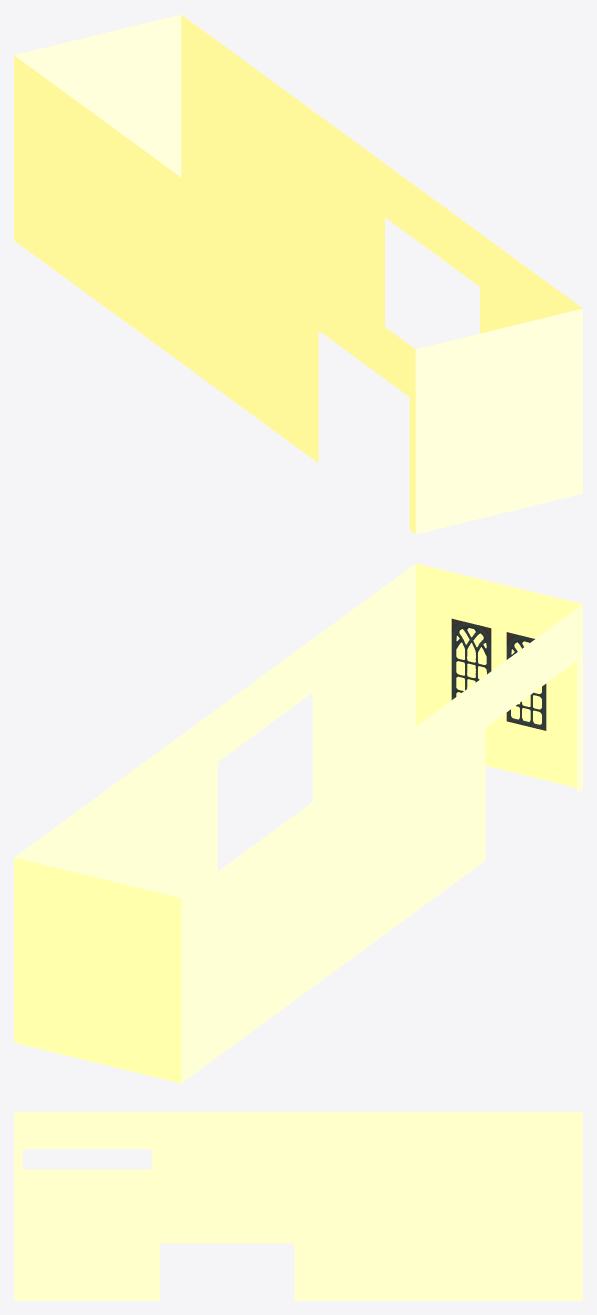
File: Homeworld_Interior_Md_Room_O_Filling_01_Vo.fbx
The picture shows the model from 3 angles, top to bottom: view 1: azimuth 30°, elevation 25°; view 2: azimuth 150°, elevation 25°; view 3: azimuth 270°, elevation 25°; orthographic projection. The views are drawn at different scales.
Parts seen in each view (by area): view 1: Homeworld_Interior_Md_Room_O_Filling_01_Vo; view 2: Homeworld_Interior_Md_Room_O_Filling_01_Vo; view 3: Homeworld_Interior_Md_Room_O_Filling_01_Vo.
Boxes of the visible parts, <box> form: Homeworld_Interior_Md_Room_O_Filling_01_Vo: <box>14,14,582,534</box>; Homeworld_Interior_Md_Room_O_Filling_01_Vo: <box>14,563,582,1083</box>; Homeworld_Interior_Md_Room_O_Filling_01_Vo: <box>14,1112,582,1300</box>.
Size of the model in its own units: 4.76 by 5.04 by 19.83.
